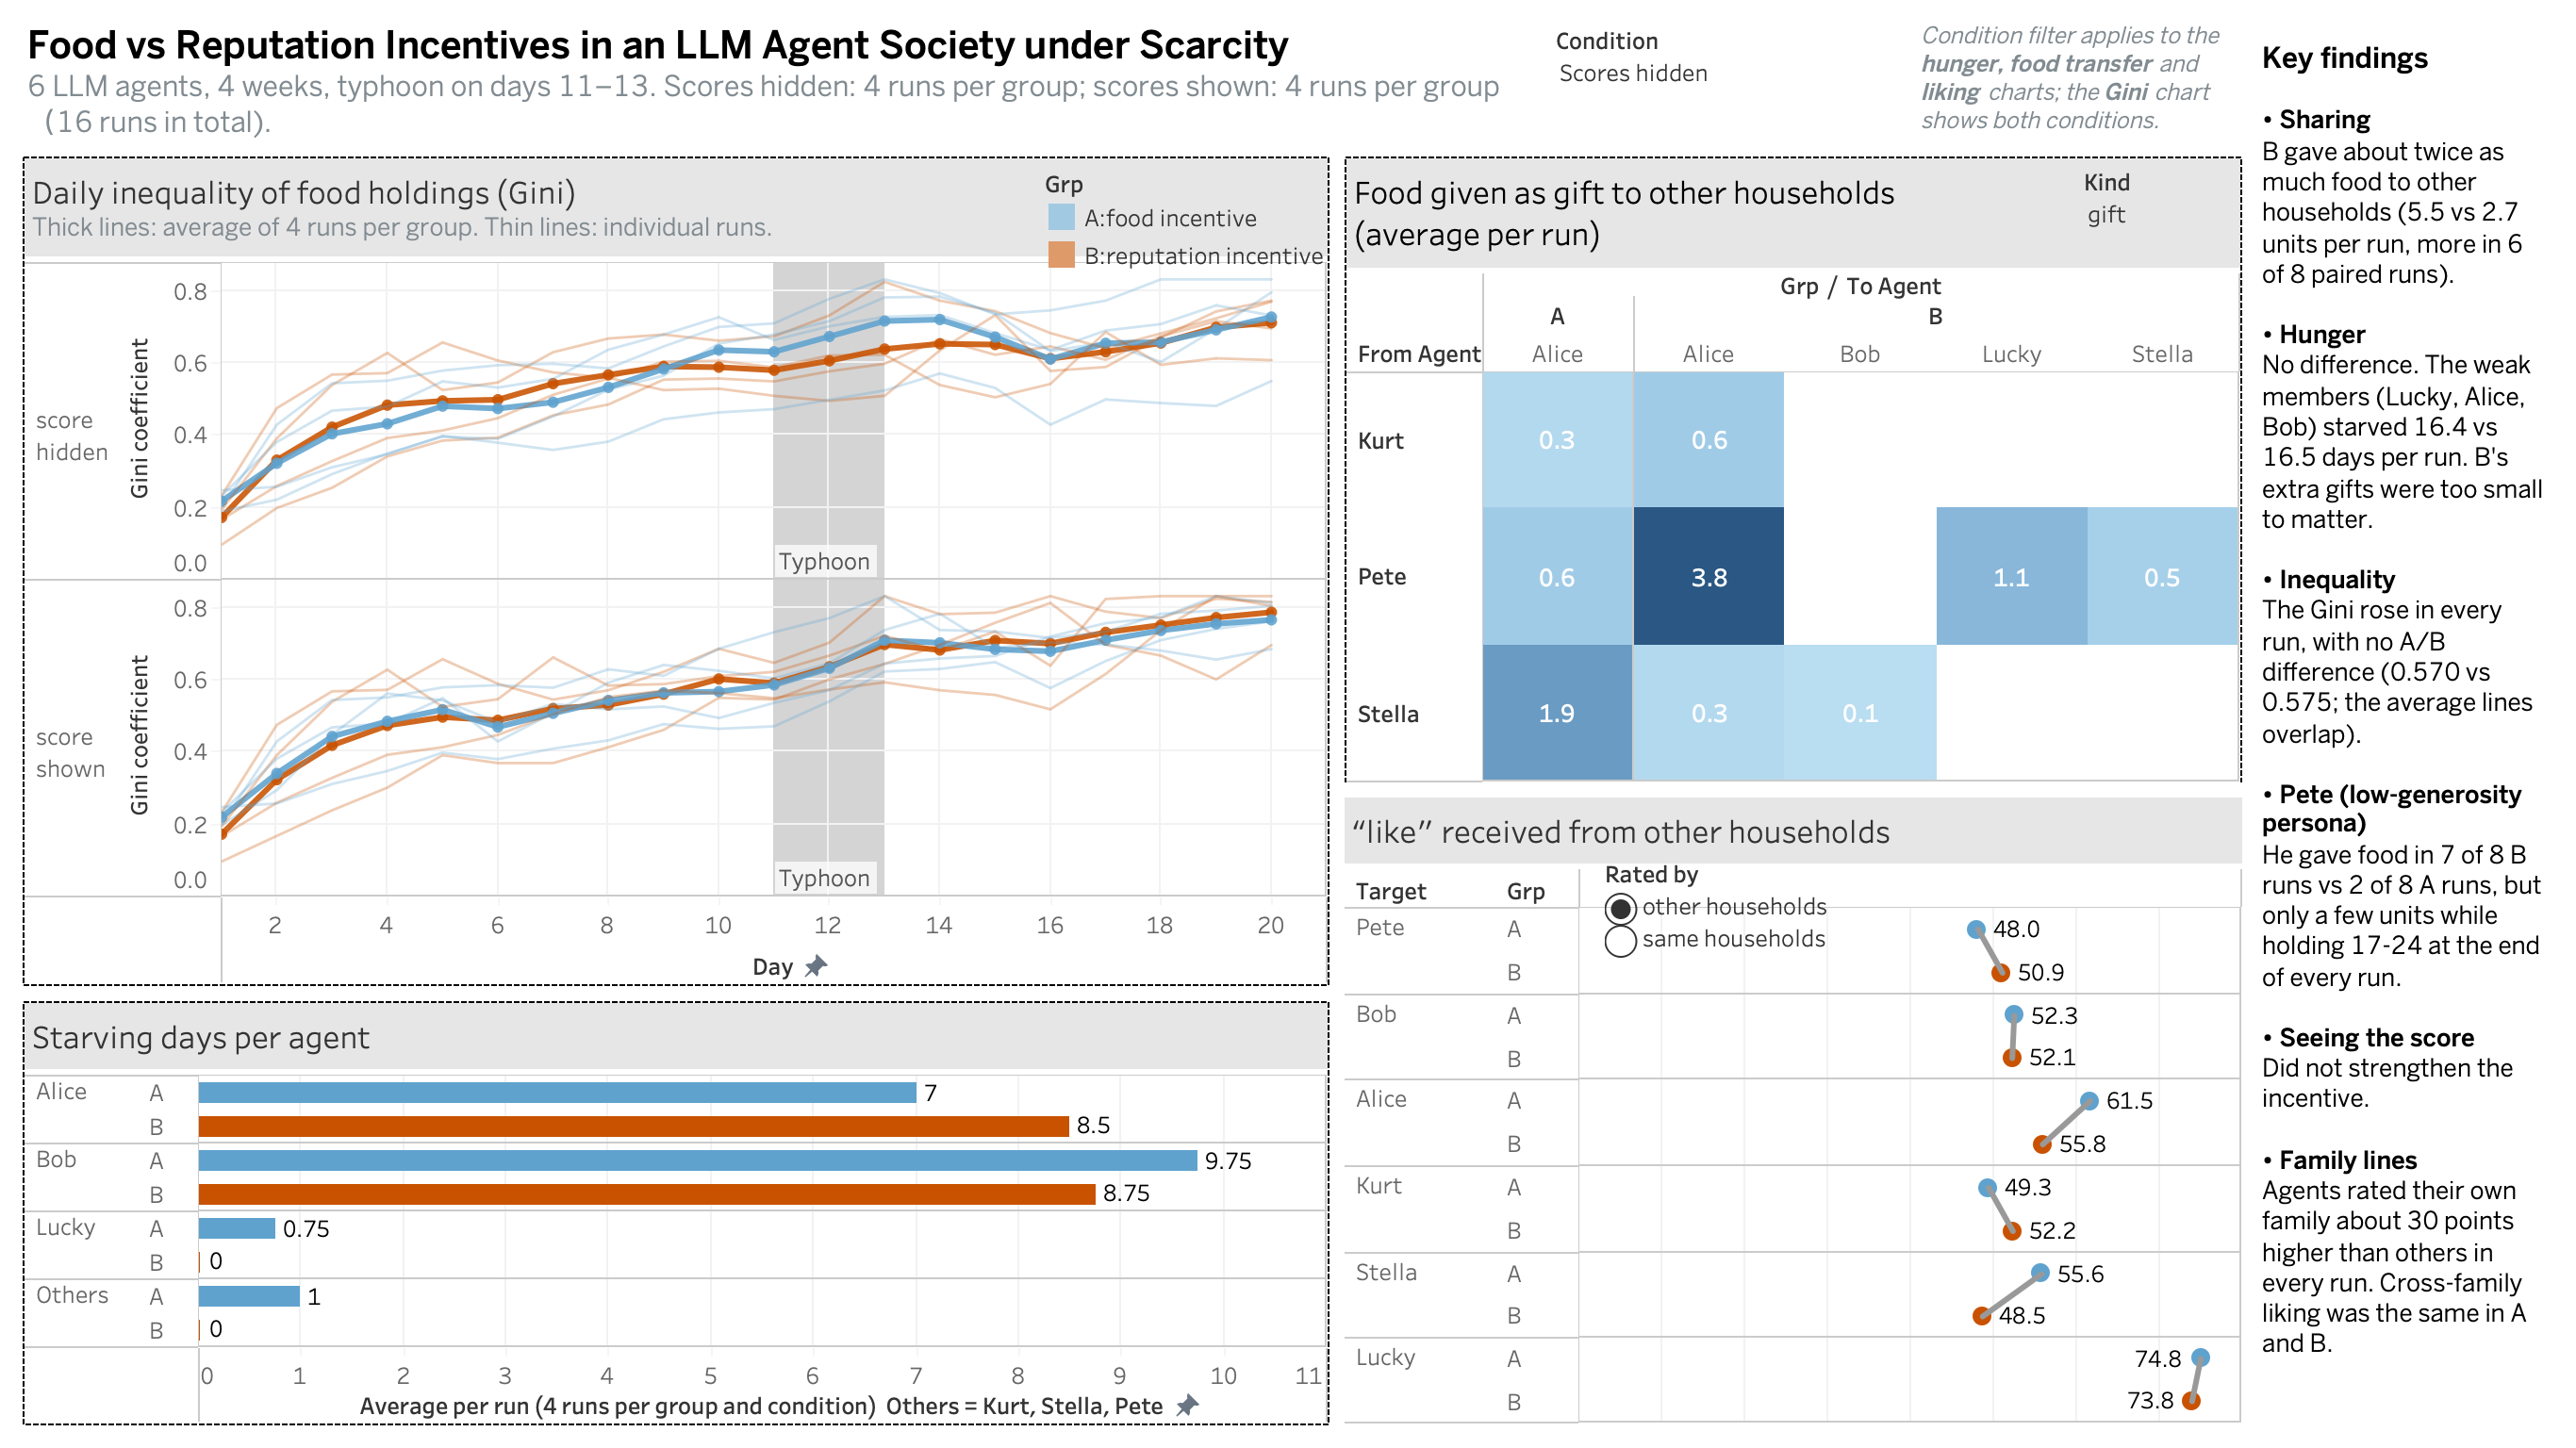

What the dashboard file says about the page in this screenshot:
{"tool":"tableau","page":{"name":"IslandSurvivalOverview","canvas":[1366,768],"ordinal":0},"visuals":[{"type":"text","box":[8,8,813,70.8]},{"type":"parameter","param":"[Parameters].[Parameter 5453904584884228]","box":[821,8,191,70.8]},{"type":"text","box":[1012,8,181,70.8]},{"type":"text","box":[1193,8,165,752]},{"type":"worksheet","title":"Daily inequality of food holdings (Gini)","mark":"Line","rows":["feedback","gini","gini"],"cols":["t"],"box":[8,78.8,701,448.2]},{"type":"worksheet","title":"Trsnsfers","mark":"Square","rows":["from_agent"],"cols":["grp","to_agent"],"box":[709,78.8,484,340.6]},{"type":"legend","title":"Daily inequality of food holdings (Gini)","param":"[federated.1o6ms8h1bqunrw189seap0iqwsc2].[none:grp:nk]","box":[553,87,153,61]},{"type":"filter","title":"Trsnsfers","param":"[federated.02tk4ed1qqo72s1bp3ms80vs5a6b].[none:kind:nk]","box":[1105,87,78,55]},{"type":"legend","title":"Daily inequality of food holdings (Gini)","param":"[federated.1o6ms8h1bqunrw189seap0iqwsc2].[none:run:nk]","box":[640,100,90,179]},{"type":"worksheet","title":"ratings","mark":"Circle","rows":["target","grp"],"cols":["like","like"],"box":[709,419.4,484,340.6]},{"type":"filter","title":"ratings","param":"[federated.0p89w161vf2pou10zlxr90y313l6].[none:same_household:ok]","box":[851,454,168,89]},{"type":"worksheet","title":"Hunger","mark":"Automatic","rows":["grp"],"cols":["Calculation_5453904563056640"],"box":[8,527,701,233]}]}

Visuals, with their boxes in screenshot pixels (x1, y1, x2, y2), scaled from the page's 1366x768 canvas onto the 2576x1448 screenshot:
text: 15,15,1548,149
parameter: 1548,15,1908,149
text: 1908,15,2250,149
text: 2250,15,2561,1433
"Daily inequality of food holdings (Gini)" worksheet (Line marks): 15,149,1337,994
"Trsnsfers" worksheet (Square marks): 1337,149,2250,791
"Daily inequality of food holdings (Gini)" legend: 1043,164,1331,279
"Trsnsfers" filter: 2084,164,2231,268
"Daily inequality of food holdings (Gini)" legend: 1207,189,1377,526
"ratings" worksheet (Circle marks): 1337,791,2250,1433
"ratings" filter: 1605,856,1922,1024
"Hunger" worksheet: 15,994,1337,1433
